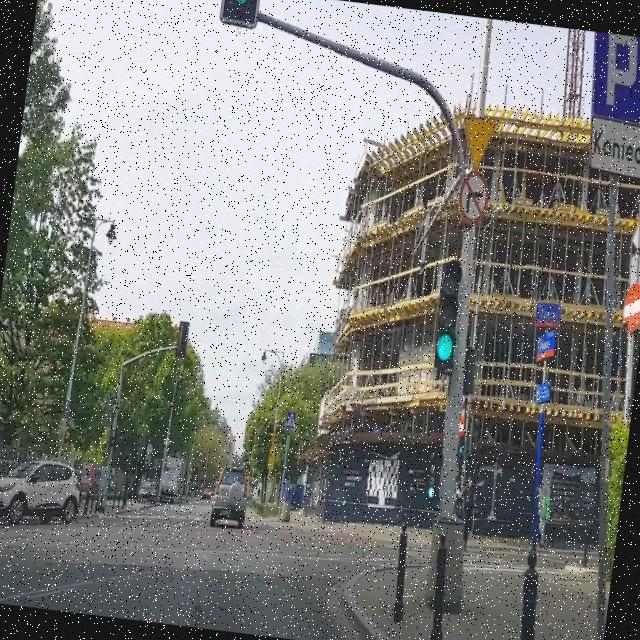Dzieci: (270, 428, 277, 442)
Przejscie dla pieszych: (286, 410, 296, 428)
Ustap pierwszenstwa: (458, 114, 496, 170)
Zakaz wjazdu: (621, 281, 640, 331)
